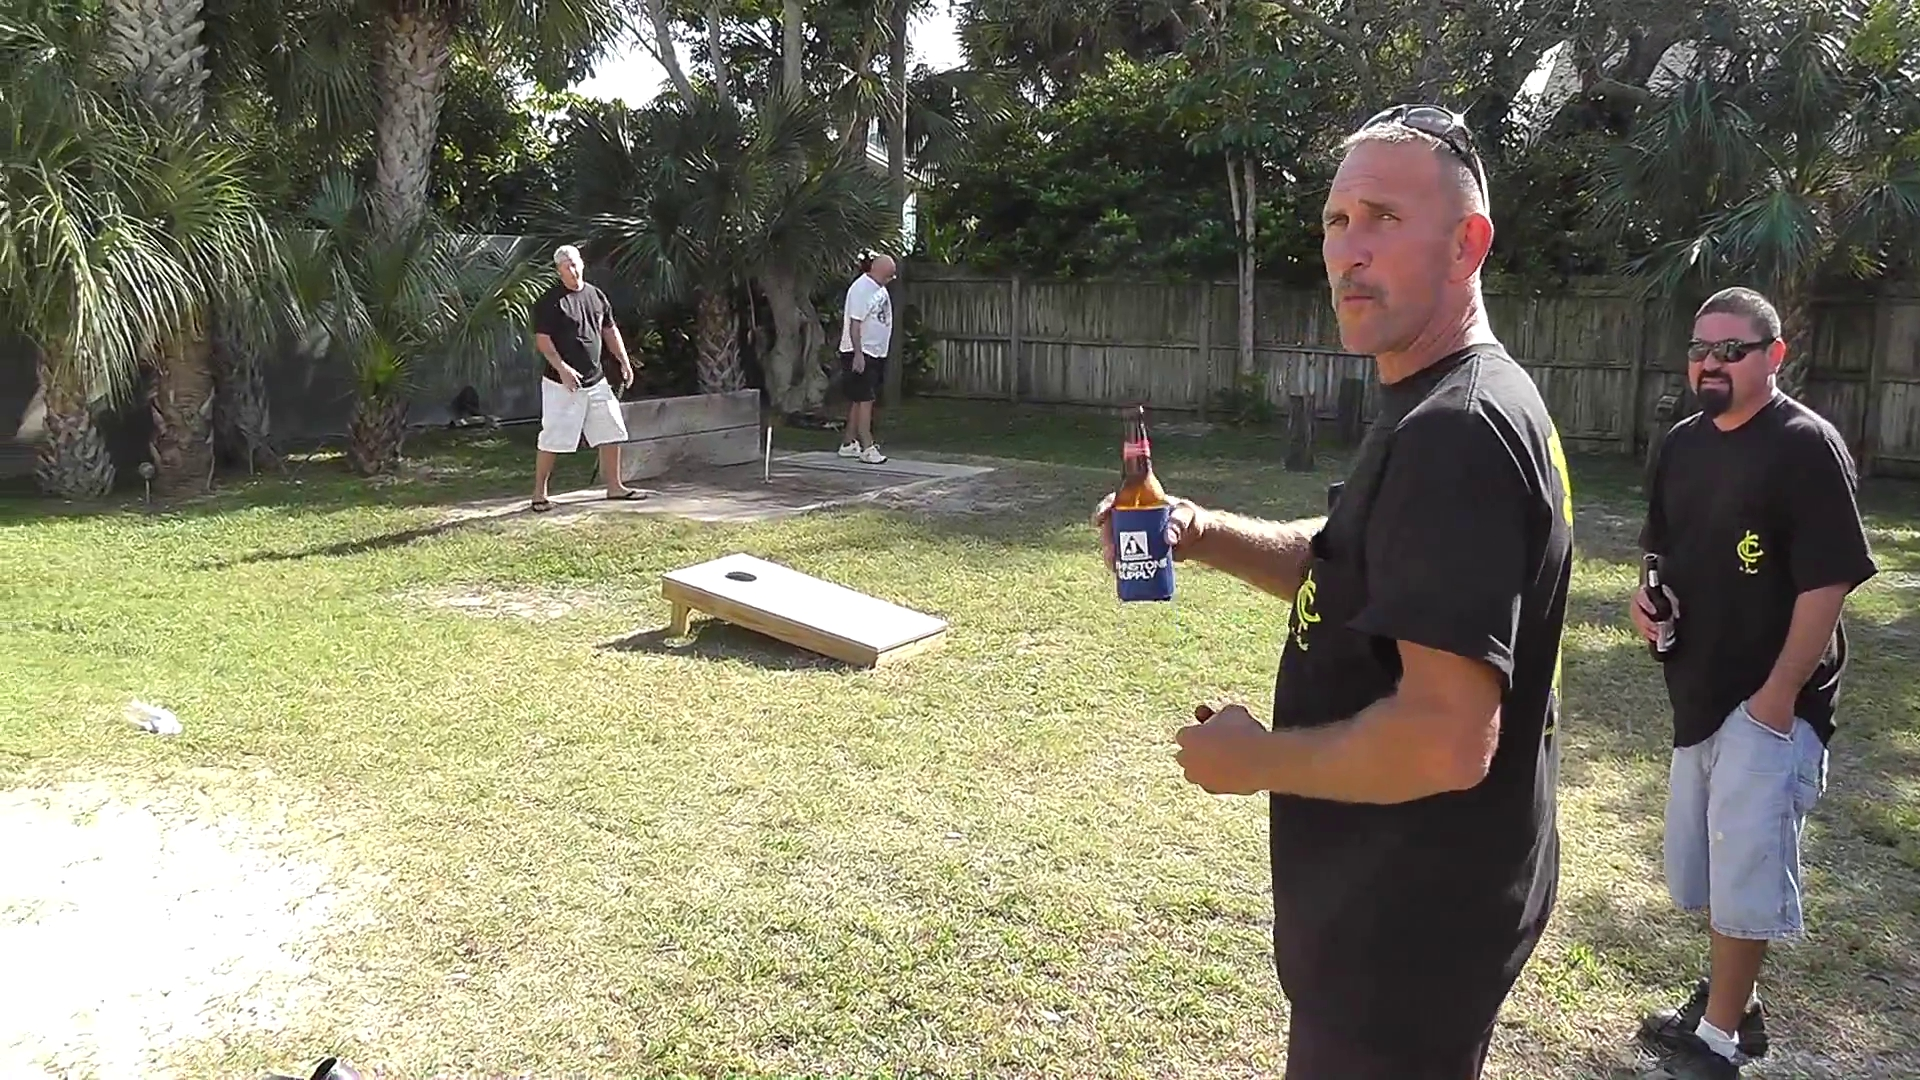person: (1091, 102, 1576, 1080), (1631, 286, 1879, 1080), (529, 244, 651, 515), (839, 255, 899, 465)
